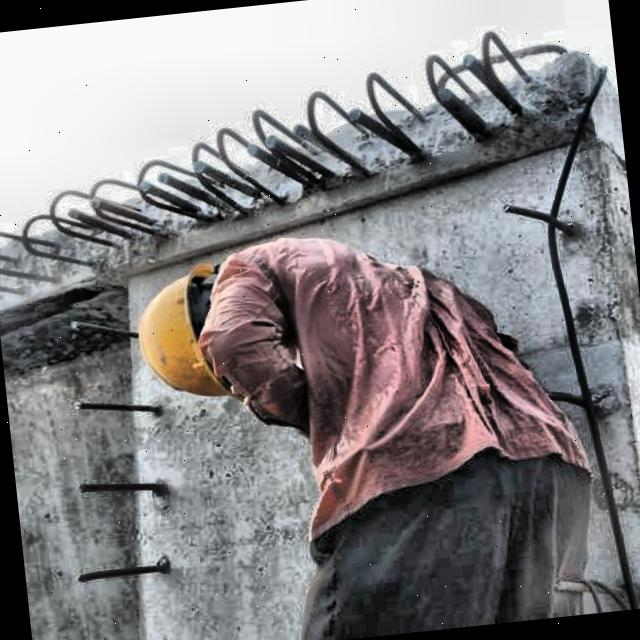helmet: (113, 250, 285, 409)
